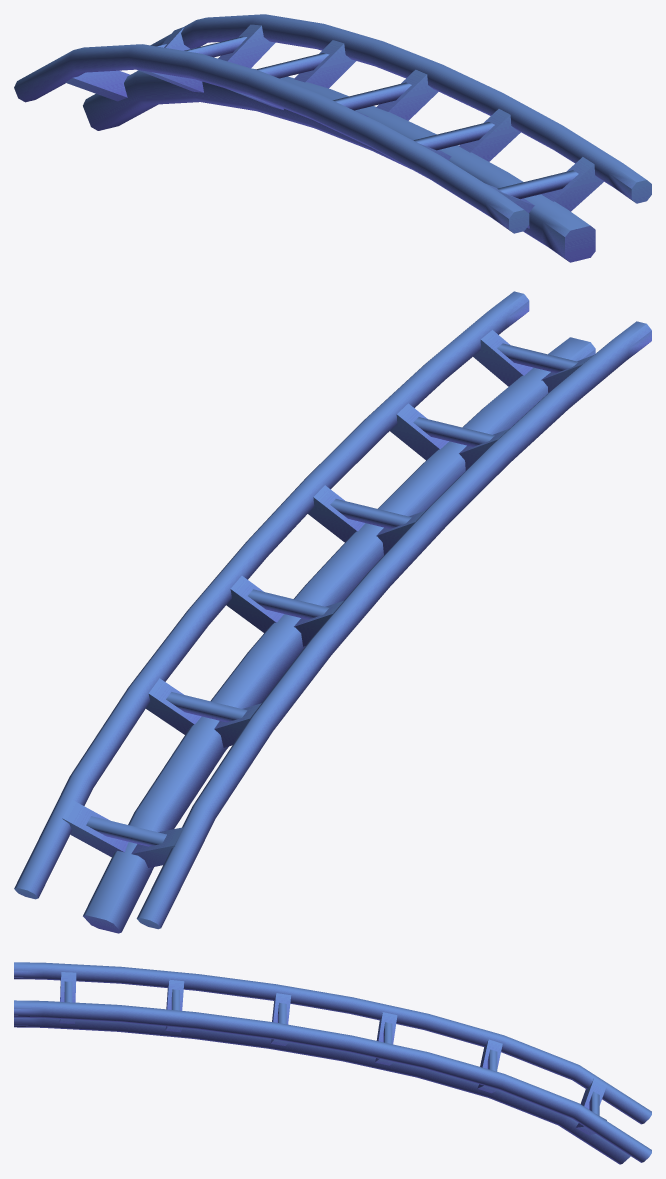
File: coaster-steel-straight-hill-end.glb
3 views of the same model, one above another, from view 1: azimuth 30°, elevation 25°; view 2: azimuth 150°, elevation 25°; view 3: azimuth 270°, elevation 25° (orthographic). The views are drawn at different scales.
Visible parts, largest first — view 1: coaster-steel-straight-hill-end; view 2: coaster-steel-straight-hill-end; view 3: coaster-steel-straight-hill-end.
Boxes of the visible parts, x1,y1,x2,y2 form: coaster-steel-straight-hill-end: (14,14,651,262); coaster-steel-straight-hill-end: (14,291,651,933); coaster-steel-straight-hill-end: (14,962,651,1164).
Size of the model in its own units: 2.1 by 3.9 by 12.64.
1 material, 1 textured.
